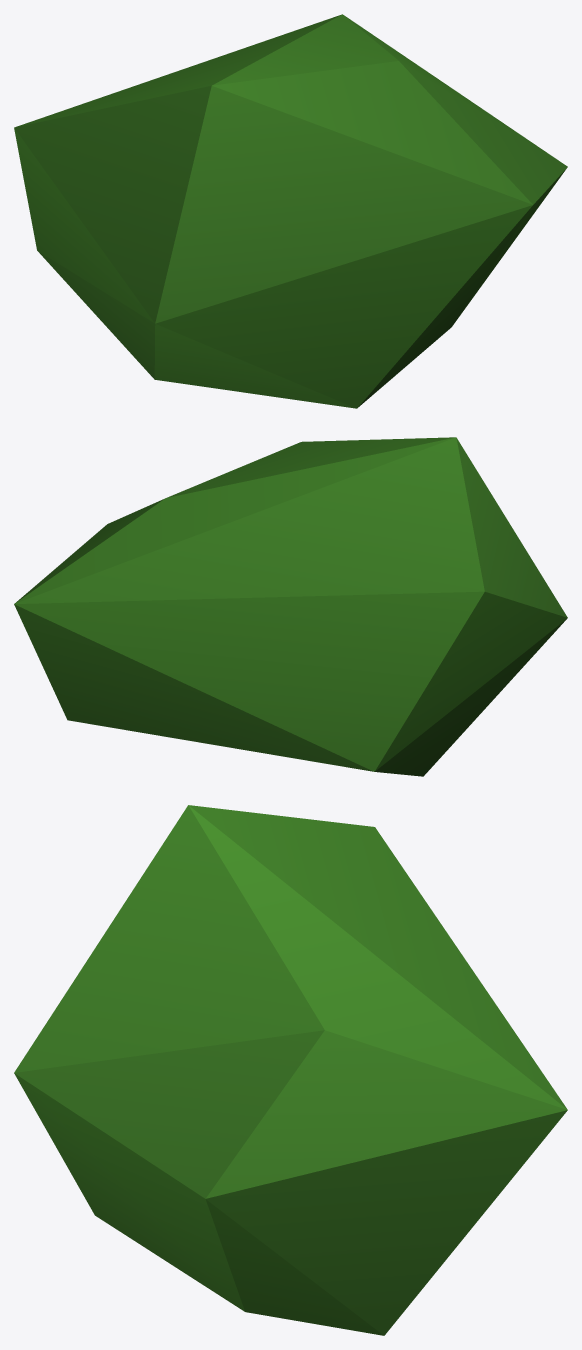
Rendered from uranium-235.glb.
The picture shows the model from 3 angles, top to bottom: view 1: azimuth 30°, elevation 25°; view 2: azimuth 150°, elevation 25°; view 3: azimuth 270°, elevation 25°; orthographic projection. The views are drawn at different scales.
Visible parts, largest first — view 1: uranium-235; view 2: uranium-235; view 3: uranium-235.
Part boxes in pixels (box(x1,y1,x2,y2)): uranium-235: box(14, 14, 567, 408); uranium-235: box(14, 437, 567, 776); uranium-235: box(14, 805, 567, 1335).
Bounding box in the file's own units: 0.2 × 0.13 × 0.18.
